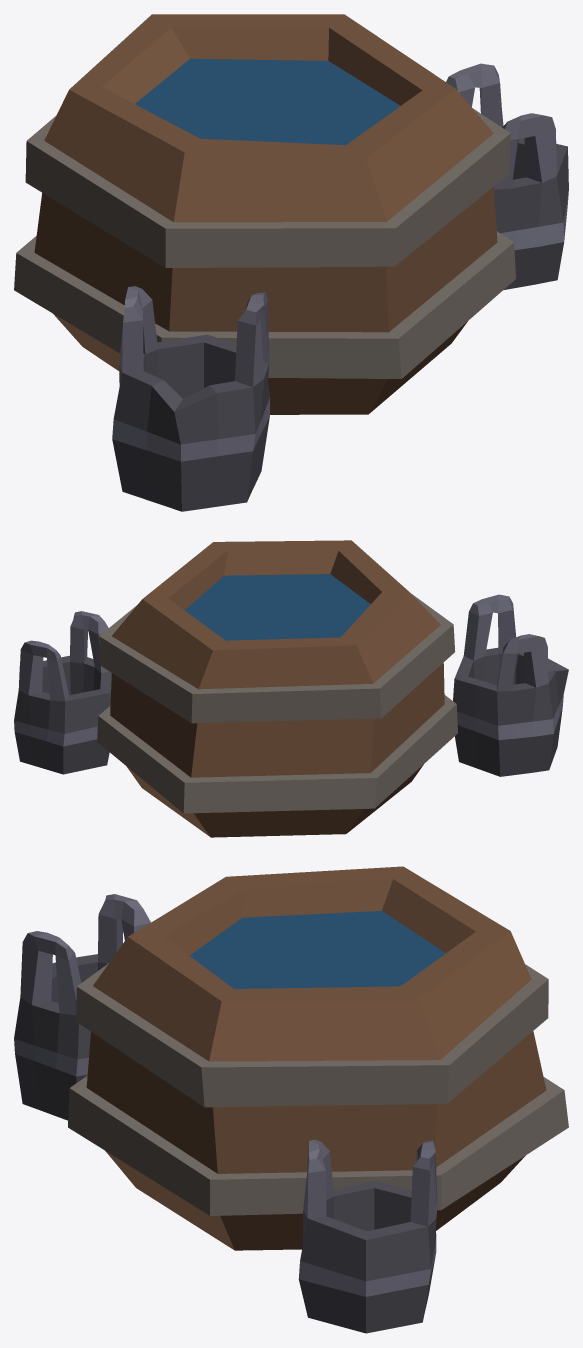
Rendered from C_BarrelWithWater.fbx.
3 renders of one model, top to bottom at view 1: azimuth 30°, elevation 25°; view 2: azimuth 150°, elevation 25°; view 3: azimuth 270°, elevation 25°, orthographic. The views are drawn at different scales.
Parts seen in each view (by area): view 1: C_BarrelWithFluid; view 2: C_BarrelWithFluid; view 3: C_BarrelWithFluid.
Part boxes in pixels (x1,y1,x2,y2): C_BarrelWithFluid: (14,14,568,511); C_BarrelWithFluid: (14,540,568,837); C_BarrelWithFluid: (14,866,568,1333).
Bounding box in the file's own units: 119 × 50.02 × 101.
